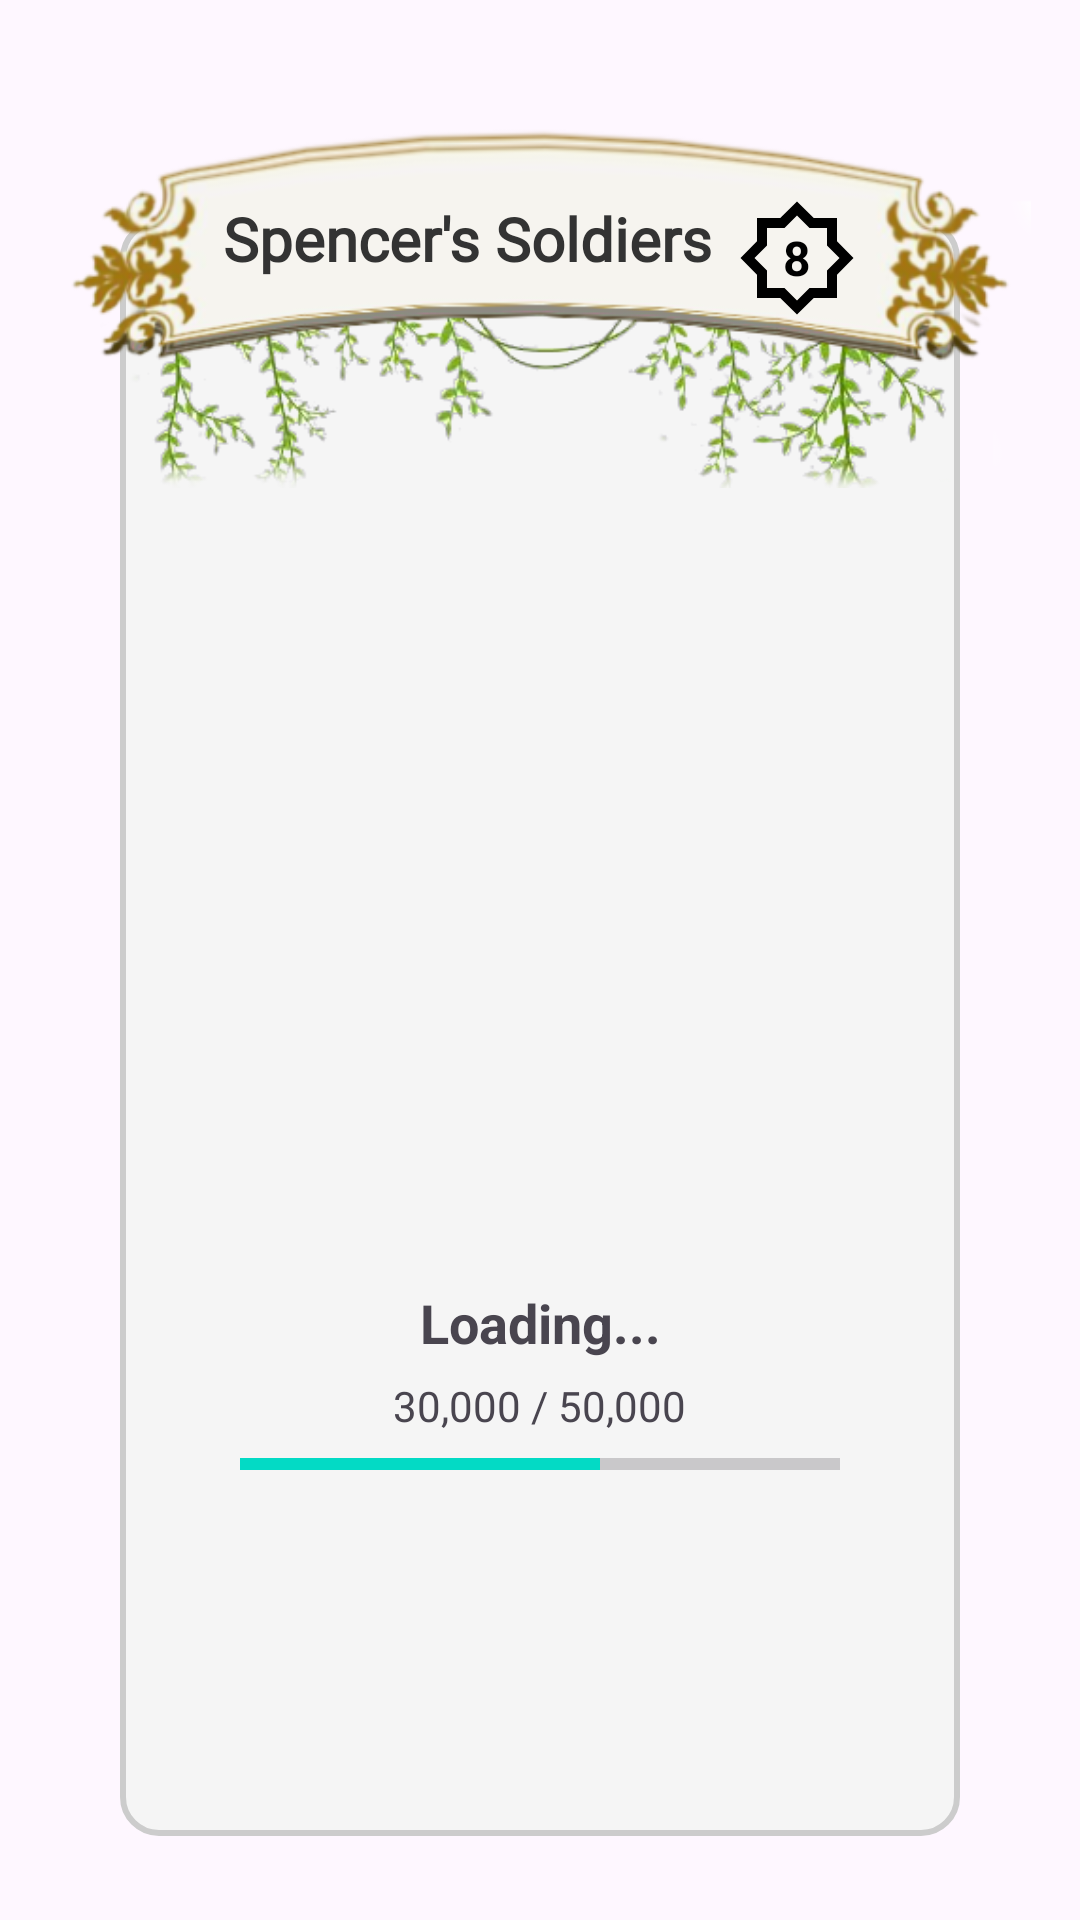

Named icons in this screenshot (1080w x 1920h) and their centers, [x,y]:
Team Level Star: [797,258]
